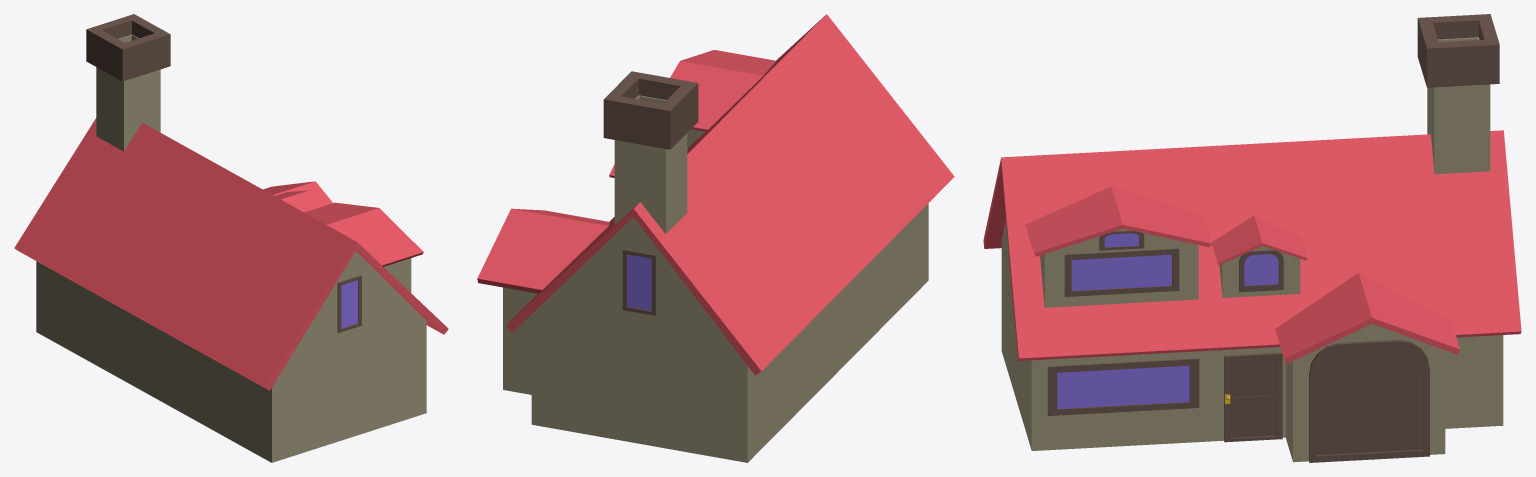
File: CALLE9_CASA1_055.fbx
3 renders of one model, left to right at view 1: azimuth 30°, elevation 25°; view 2: azimuth 150°, elevation 25°; view 3: azimuth 270°, elevation 25°, orthographic. The views are drawn at different scales.
Parts seen in each view (by area): view 1: CASA1.055; view 2: CASA1.055; view 3: CASA1.055.
Boxes of the visible parts, left/top/right/bottom form: CASA1.055: left=14, top=14, right=448, bottom=462; CASA1.055: left=477, top=14, right=954, bottom=462; CASA1.055: left=983, top=14, right=1521, bottom=462.
Size of the model in its own units: 712 by 734 by 1034.
